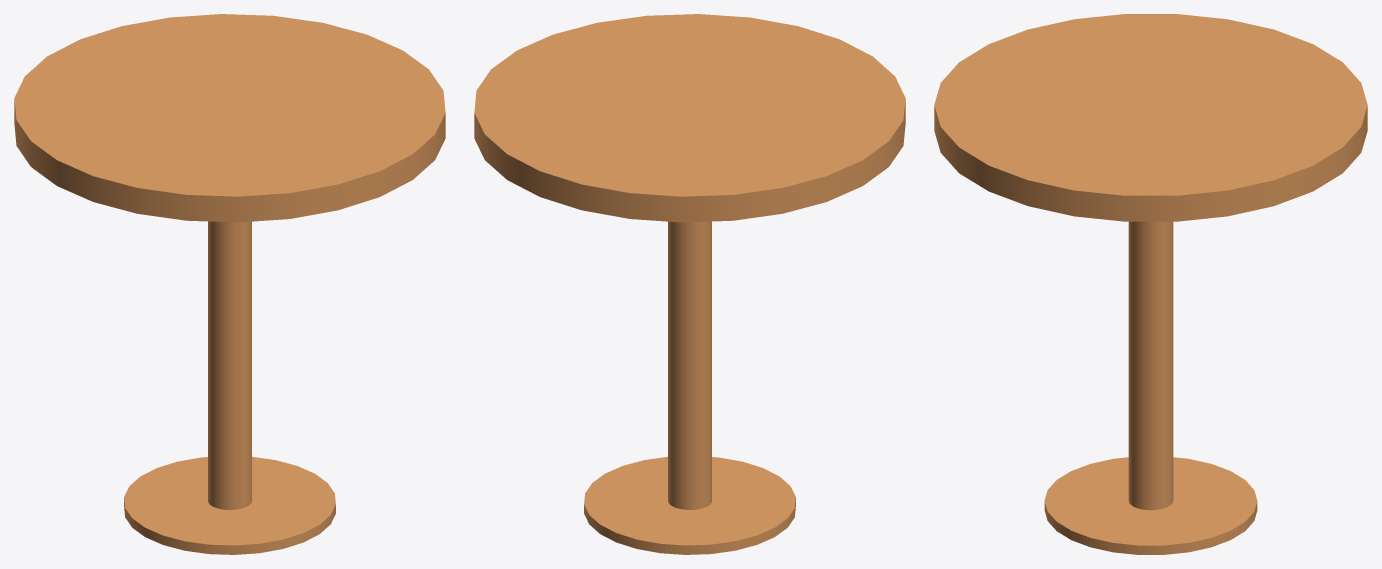
The model's file is Table.fbx.
3 views of the same model, side by side, from view 1: azimuth 30°, elevation 25°; view 2: azimuth 150°, elevation 25°; view 3: azimuth 270°, elevation 25° (orthographic).
Parts seen in each view (by area): view 1: Table; view 2: Table; view 3: Table.
Boxes of the visible parts, x1,y1,x2,y2 form: Table: (14,14,445,554); Table: (474,14,905,554); Table: (934,14,1367,554).
Size of the model in its own units: 6.34 by 6.59 by 6.38.
